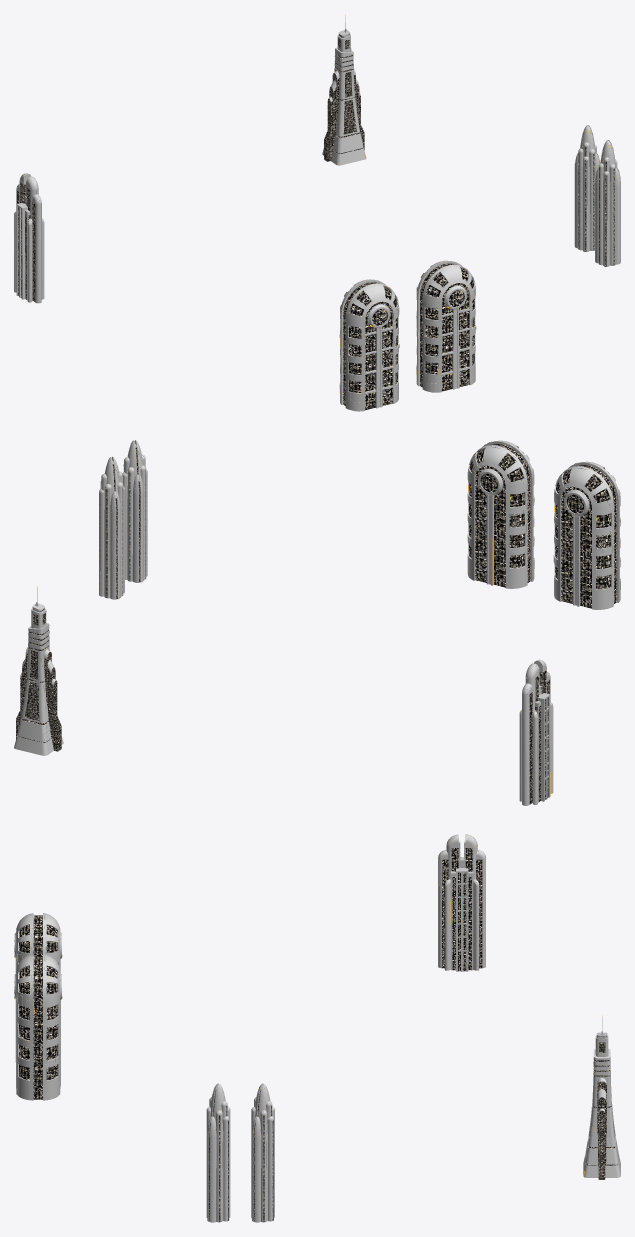
File: jmaningrad buildings.fbx
3 views of the same model, one above another, from view 1: azimuth 30°, elevation 25°; view 2: azimuth 150°, elevation 25°; view 3: azimuth 270°, elevation 25° (orthographic). The views are drawn at different scales.
Visible parts, largest first — view 1: Building1, Building1.001, Building5, Building2, Building3.001, Building3; view 2: Building1, Building1.001, Building5, Building2, Building3, Building3.001; view 3: Building1, Building2, Building5, Building3.001, Building3, Building1.001.
Part boxes in pixels (x1,y1,x2,y2): Building1: [416, 260, 476, 392]; Building1.001: [339, 279, 399, 411]; Building5: [322, 14, 366, 165]; Building2: [14, 173, 44, 303]; Building3.001: [594, 140, 620, 266]; Building3: [574, 125, 600, 251]; Building1: [467, 440, 534, 588]; Building1.001: [553, 461, 620, 609]; Building5: [14, 586, 63, 755]; Building2: [519, 659, 553, 805]; Building3: [99, 456, 124, 599]; Building3.001: [122, 440, 147, 582]; Building1: [14, 954, 62, 1100]; Building2: [438, 834, 485, 971]; Building5: [583, 1015, 620, 1179]; Building3.001: [206, 1083, 230, 1222]; Building3: [251, 1083, 274, 1222]; Building1.001: [14, 913, 62, 1038].
Size of the model in its own units: 94068 by 26100 by 92327.
Materials: 3 (1 with a texture image).
